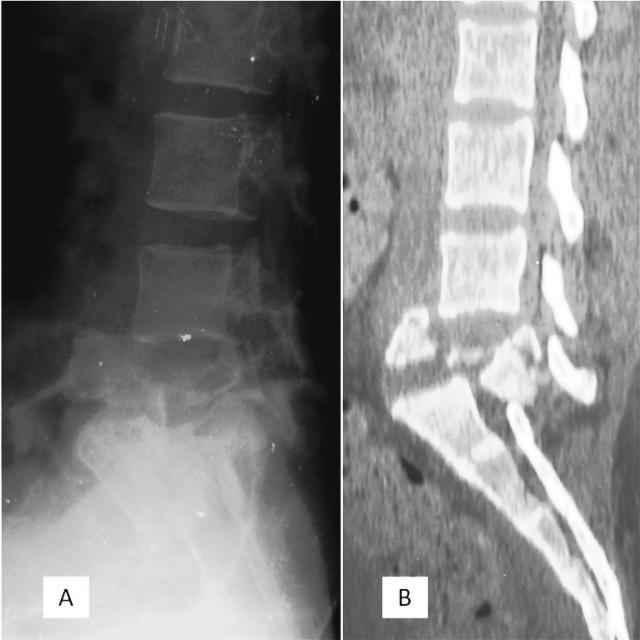Fracture Dislocation: (391, 314, 595, 421)
